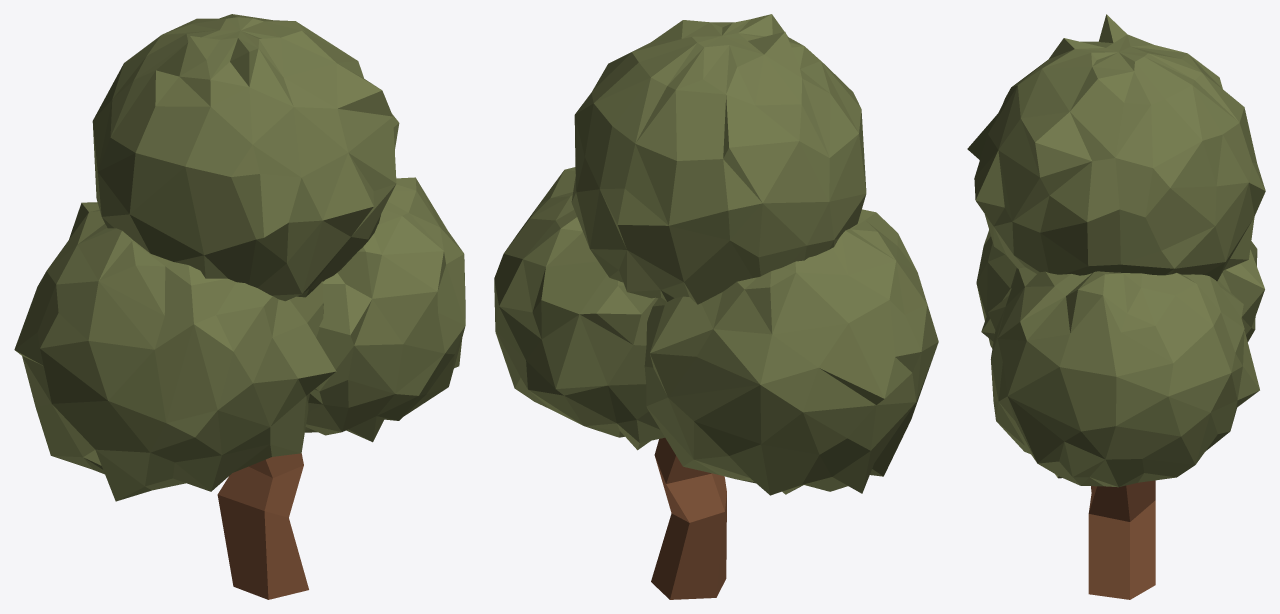
File: Tree_05.fbx
The picture shows the model from 3 angles, left to right: view 1: azimuth 30°, elevation 25°; view 2: azimuth 150°, elevation 25°; view 3: azimuth 270°, elevation 25°; orthographic projection. The views are drawn at different scales.
Parts seen in each view (by area): view 1: Sphere.002, Sphere, Sphere.001, Cylinder.057; view 2: Sphere.002, Sphere, Sphere.001, Cylinder.057; view 3: Sphere.002, Sphere.001, Cylinder.057, Sphere.
Part boxes in pixels (bbox=[...]): Sphere.002: bbox=[92, 14, 399, 301]; Sphere: bbox=[14, 202, 336, 501]; Sphere.001: bbox=[305, 177, 465, 442]; Cylinder.057: bbox=[217, 453, 308, 599]; Sphere.002: bbox=[571, 14, 866, 304]; Sphere: bbox=[644, 209, 938, 495]; Sphere.001: bbox=[494, 167, 664, 450]; Cylinder.057: bbox=[651, 438, 726, 599]; Sphere.002: bbox=[967, 14, 1265, 281]; Sphere.001: bbox=[988, 267, 1259, 487]; Cylinder.057: bbox=[1088, 480, 1155, 599]; Sphere: bbox=[976, 230, 1264, 348].
Bounding box in the file's own units: 337 × 447 × 228.
